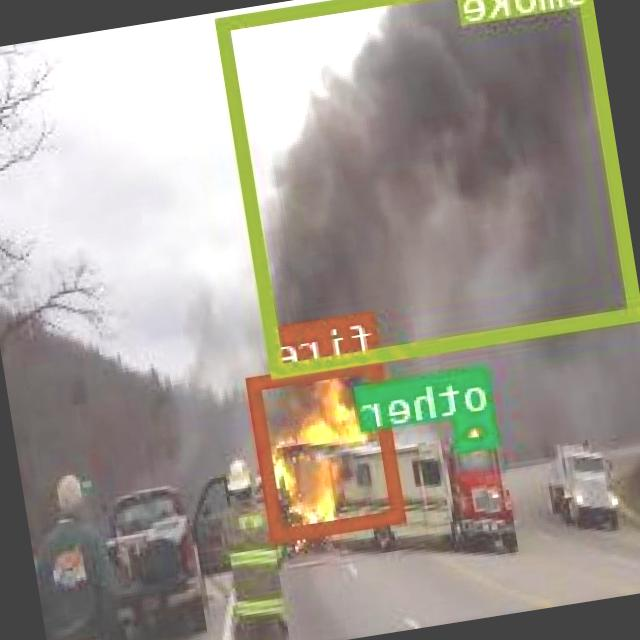fire: (249, 356, 406, 538)
smoke: (217, 0, 640, 373)
